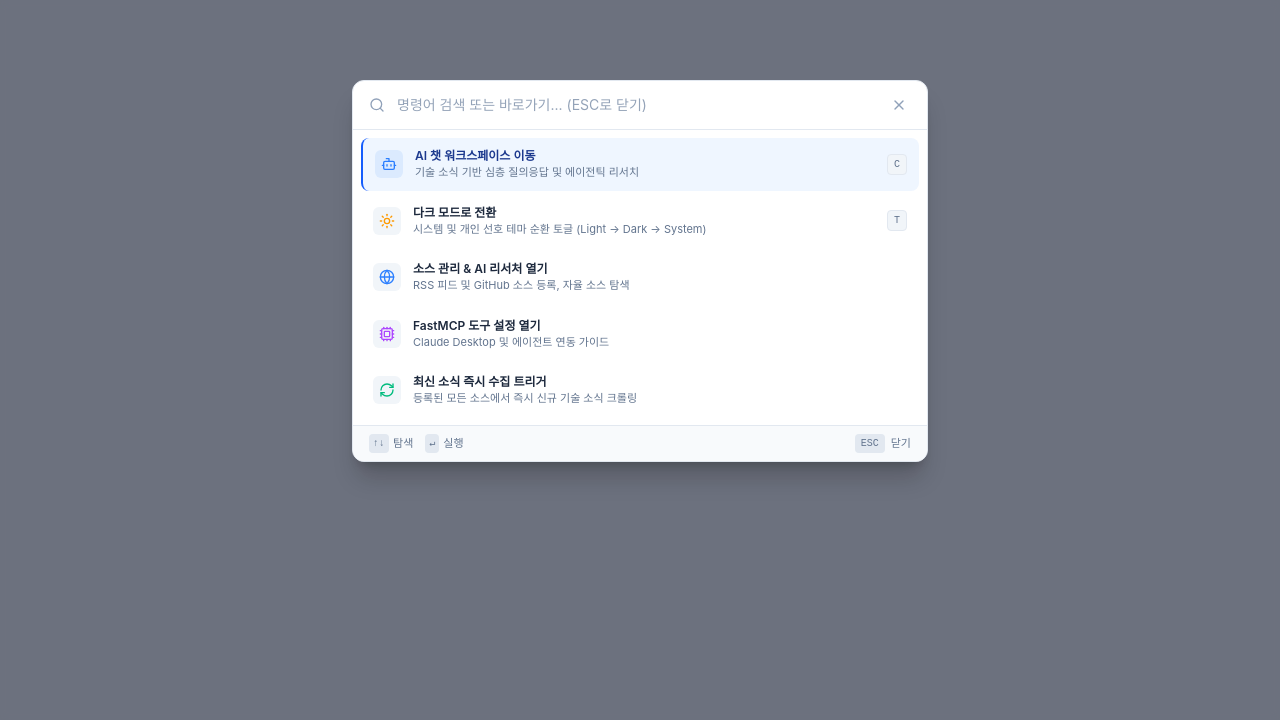
CommandPalette Component (Cycle 3 - TDD) › displays Empty State when no actions match search query
This screenshot has width=1280, height=720.
Type "zzzzz없는명령어" into the field with placeholder "명령어 검색 또는 바로가기... (ESC로 닫기)" at x=636, y=105, box x1=397 y1=95 x2=875 y2=115
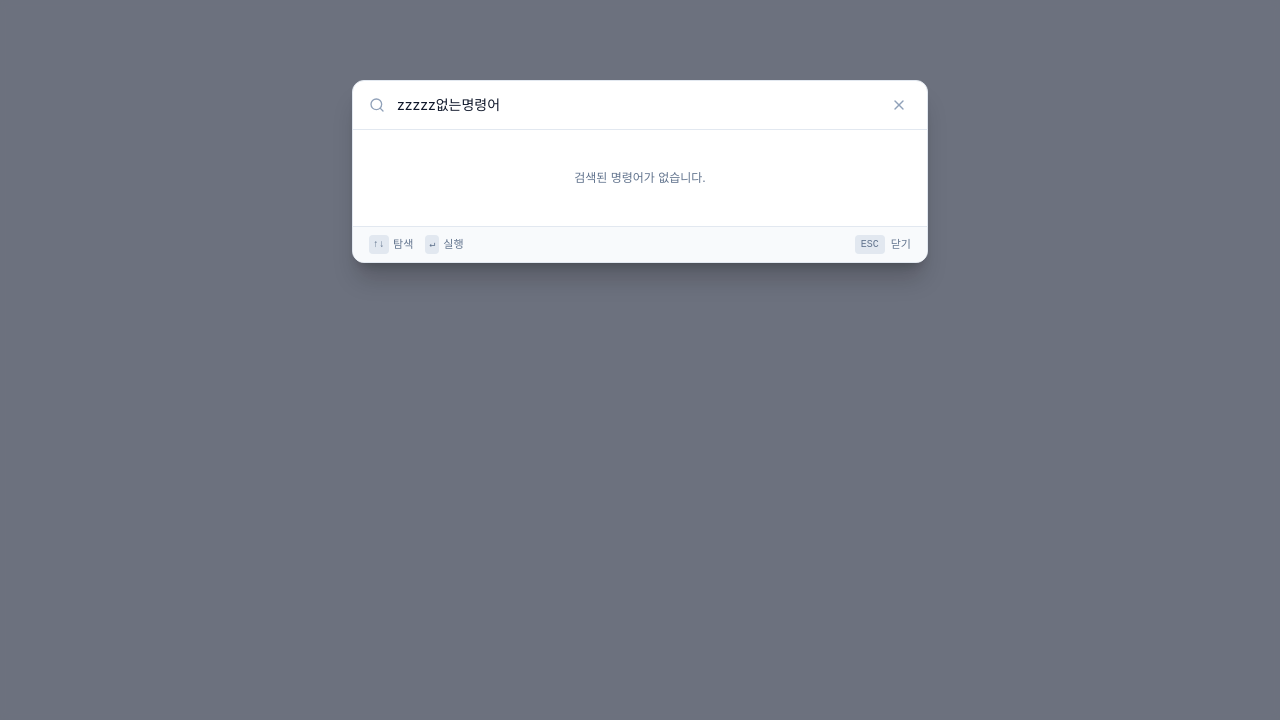
Now the text "검색된 명령어가 없습니다." is shown, box x1=574 y1=170 x2=706 y2=185
